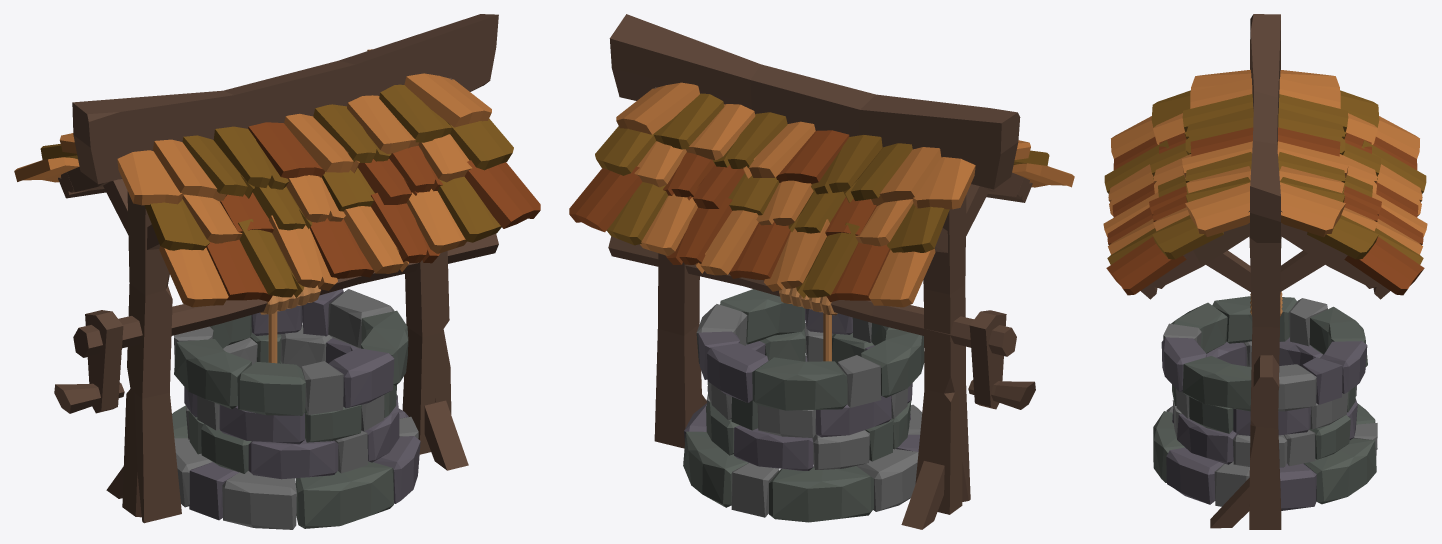
Rendered from Puit.glb.
The picture shows the model from 3 angles, left to right: view 1: azimuth 30°, elevation 25°; view 2: azimuth 150°, elevation 25°; view 3: azimuth 270°, elevation 25°; orthographic projection. The views are drawn at different scales.
Parts seen in each view (by area): view 1: Cube.009, Cube.003, Cube, Cube.005, Cube.002, Cube.001, Cube.004, Cylinder, Cube.022, Cube.028, Cube.043, Cube.049 (+31 smaller); view 2: Cube.009, Cube.003, Cube, Cube.005, Cube.002, Cube.004, Cube.001, Cylinder, Cube.022, Cube.028, Cube.043, Cube.049 (+31 smaller); view 3: Cube.003, Cube, Cube.004, Cube.009, Cube.002, Cube.001, Cube.049, Cube.028, Cube.007, Cube.039, Cube.044, Cube.042 (+29 smaller).
Boxes of the visible parts, box(x1,y1,x2,y2) form: Cube.009: box(72, 14, 498, 184); Cube.003: box(174, 289, 408, 415); Cube: box(172, 405, 420, 529); Cube.005: box(122, 191, 181, 523); Cube.002: box(184, 324, 396, 444); Cube.001: box(186, 361, 399, 479); Cube.004: box(402, 251, 451, 454); Cylinder: box(73, 233, 498, 357); Cube.022: box(14, 157, 228, 307); Cube.028: box(464, 160, 540, 228); Cube.043: box(59, 133, 182, 205); Cube.049: box(367, 49, 491, 127); Cube.009: box(609, 14, 1020, 189); Cube.003: box(696, 289, 924, 410); Cube: box(683, 403, 922, 522); Cube.005: box(915, 195, 970, 514); Cube.002: box(707, 323, 912, 437); Cube.004: box(654, 253, 702, 448); Cube.001: box(706, 356, 911, 470); Cylinder: box(608, 236, 1016, 356); Cube.022: box(868, 163, 1074, 307); Cube.028: box(569, 166, 642, 232); Cube.043: box(912, 140, 1030, 209); Cube.049: box(616, 82, 699, 134); Cube.003: box(1161, 296, 1367, 411); Cube: box(1153, 403, 1377, 510); Cube.004: box(1249, 228, 1281, 529); Cube.009: box(1250, 14, 1280, 242); Cube.002: box(1172, 337, 1356, 435); Cube.001: box(1172, 399, 1357, 467); Cube.049: box(1185, 182, 1345, 236); Cube.028: box(1106, 237, 1424, 295); Cube.007: box(1159, 211, 1371, 284); Cube.039: box(1152, 215, 1378, 259); Cube.044: box(1185, 108, 1345, 154); Cube.042: box(1182, 94, 1348, 138).
Size of the model in its own units: 3.86 by 3.59 by 2.9.
